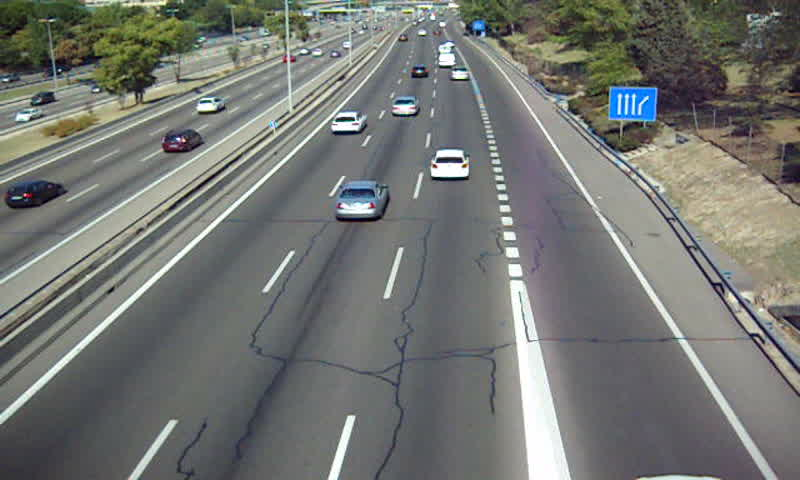car: (333, 181, 387, 220), (429, 151, 471, 179), (331, 110, 367, 135), (392, 96, 420, 117), (450, 66, 470, 81), (408, 66, 428, 80)
van: (437, 54, 457, 68), (438, 43, 452, 56)
